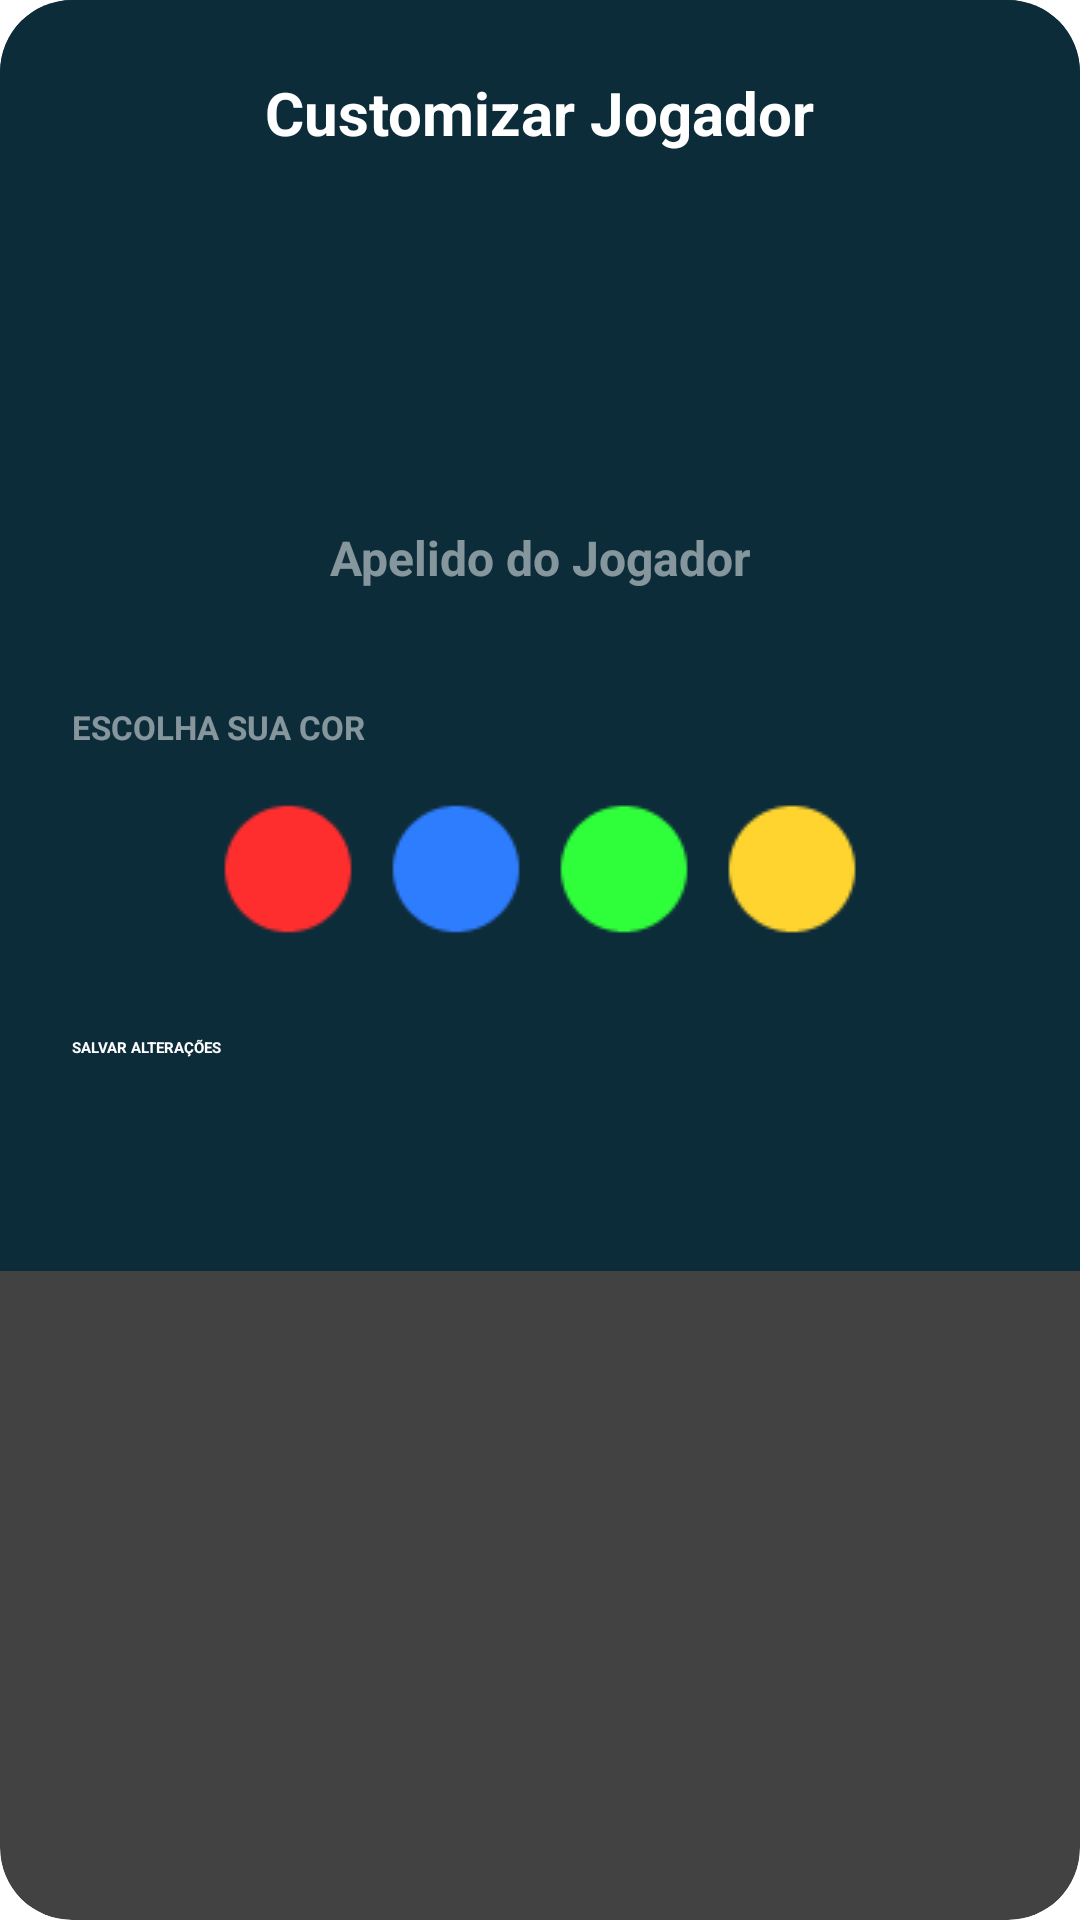

Named icons in this screenshot (1080x1920) and their bounding boxes, (x1,y1,x2,y2):
Cor Amarela: (728,805,856,933)
Cor Azul: (392,805,520,933)
Cor Verde: (560,805,688,933)
Cor Vermelha: (224,805,352,933)
